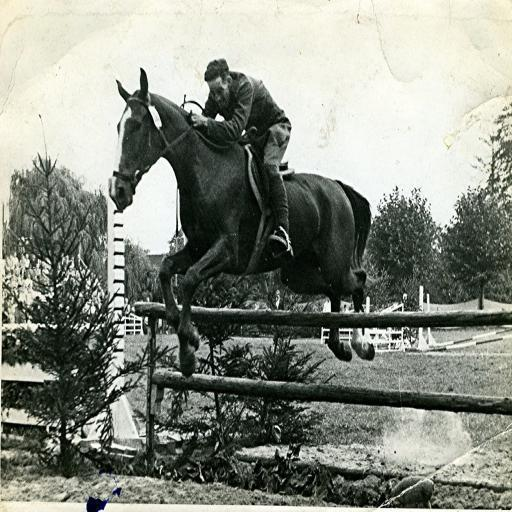horse: (108, 66, 376, 379)
